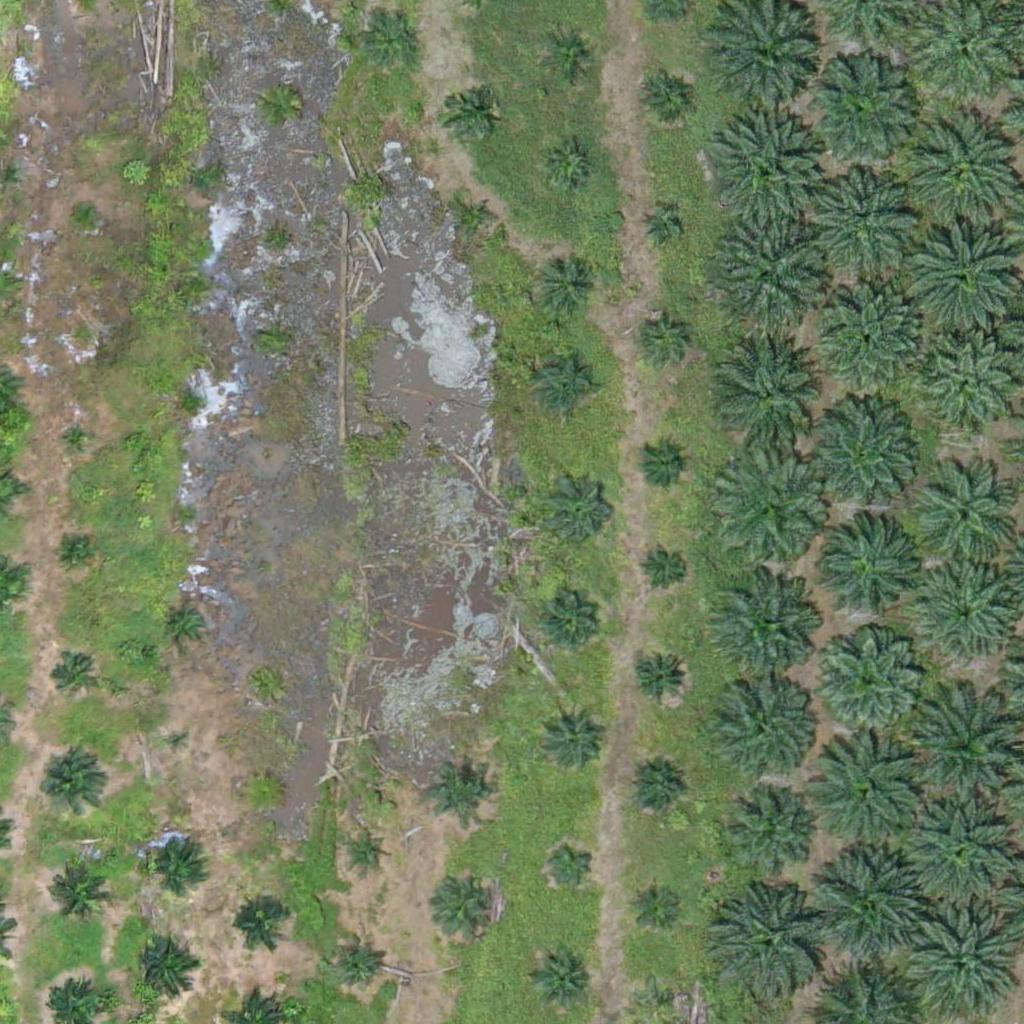Kelapa_Sawit: (706, 880, 831, 1006), (903, 794, 1016, 908), (813, 739, 926, 853), (811, 624, 924, 738), (715, 456, 828, 570), (901, 903, 1014, 1016), (814, 845, 927, 958), (712, 115, 825, 228), (713, 217, 826, 330), (713, 332, 826, 445), (805, 401, 918, 514), (708, 575, 820, 689), (710, 4, 822, 117), (807, 53, 919, 166), (908, 218, 1020, 331), (823, 284, 923, 385), (819, 170, 919, 271), (920, 338, 1020, 439), (917, 470, 1017, 571), (714, 673, 814, 774), (918, 563, 1018, 663), (822, 517, 922, 617), (724, 790, 812, 878), (35, 752, 110, 828), (43, 854, 118, 930), (542, 469, 617, 544), (440, 873, 503, 936), (429, 757, 492, 820), (144, 829, 207, 892), (538, 596, 601, 659), (527, 945, 590, 1008), (628, 646, 691, 709), (229, 891, 291, 954), (133, 937, 196, 999), (538, 256, 600, 319), (537, 353, 599, 416), (539, 707, 601, 770), (625, 758, 687, 821), (640, 313, 690, 364), (631, 875, 681, 926), (630, 972, 680, 1023), (546, 837, 596, 888), (636, 437, 686, 488), (48, 651, 98, 702), (366, 21, 416, 71), (442, 85, 492, 135), (544, 141, 594, 191), (545, 32, 595, 82), (332, 935, 382, 985), (640, 545, 690, 595), (643, 76, 693, 126), (162, 599, 212, 649), (349, 833, 387, 871), (459, 199, 497, 237), (642, 208, 680, 246), (246, 773, 284, 811), (60, 421, 98, 459), (62, 537, 87, 563), (74, 198, 99, 223), (166, 727, 191, 752)
